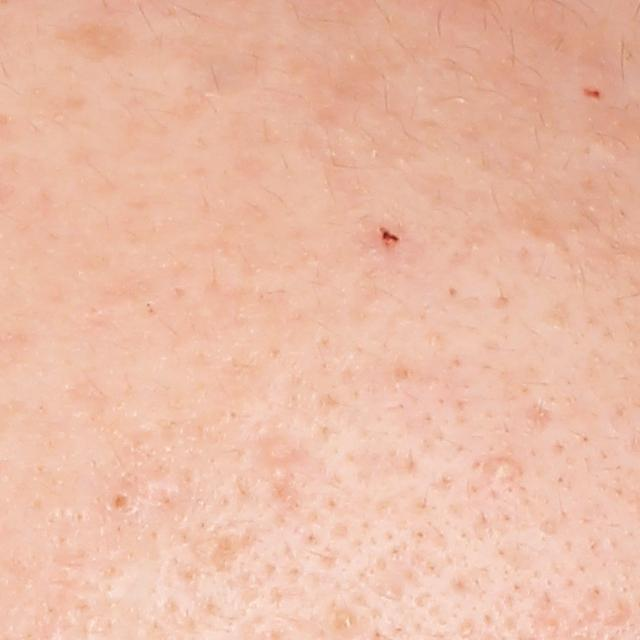atrophic_scar: (523, 399, 558, 428)
comedo: (485, 448, 525, 482), (106, 487, 139, 519), (338, 607, 360, 633), (541, 236, 562, 255)
